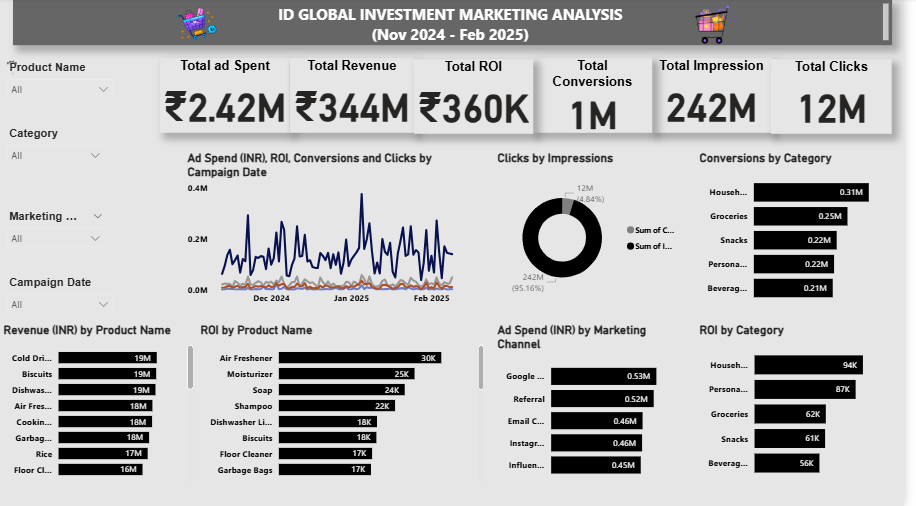

What the dashboard file says about the page in this screenshot:
{"tool":"powerbi","page":{"name":"Page 1","canvas":[1280,720],"ordinal":0},"visuals":[{"type":"card","title":"Total ad Spent","fields":{"Values":["Sum(marketing.Ad Spend (INR))"]},"box":[226.8,85,184.3,106.3],"z":0},{"type":"barChart","title":" Ad Spend (INR) by Marketing Channel","fields":{"Category":["marketing.Marketing Channel"],"Y":["Sum(marketing.Ad Spend (INR))"]},"box":[700.5,460.3,272.1,231.8],"z":1000},{"type":"card","title":"Total Impression","fields":{"Values":["Sum(marketing.Impressions)"]},"box":[924.1,85,168.7,106.3],"z":2000},{"type":"donutChart","title":"Clicks by Impressions","fields":{"Y":["Sum(marketing.Clicks)","Sum(marketing.Impressions)"]},"box":[700.2,216.9,272.1,226.8],"z":3000},{"type":"card","title":"Total Clicks","fields":{"Values":["Sum(marketing.Clicks)"]},"box":[1092.8,86.5,171.5,106.3],"z":4000},{"type":"barChart","title":" Conversions by Category","fields":{"Category":["marketing.Category"],"Y":["Sum(marketing.Conversions)"]},"box":[986.5,216.9,277.8,226.8],"z":5000},{"type":"card","title":"Total Conversions","fields":{"Values":["Sum(marketing.Conversions)"]},"box":[755.4,85,168.7,106.3],"z":6000},{"type":"clusteredBarChart","title":" Revenue (INR) by Product Name","fields":{"Category":["marketing.Product Name"],"Y":["Sum(marketing.Revenue (INR))"]},"box":[0,460.3,278.8,231.8],"z":7000},{"type":"card","title":"Total Revenue","fields":{"Values":["Sum(marketing.Revenue (INR))"]},"box":[411,85,175.7,106.3],"z":8000},{"type":"barChart","title":" ROI by Product Name","fields":{"Category":["marketing.Product Name"],"Y":["Sum(marketing.ROI)"]},"box":[278.8,460.3,411.5,231.8],"z":9000},{"type":"card","title":"Total ROI","fields":{"Values":["Sum(marketing.ROI)"]},"box":[586.8,86.5,168.7,106.3],"z":10000},{"type":"barChart","title":" ROI by Category","fields":{"Category":["marketing.Category"],"Y":["Sum(marketing.ROI)"]},"box":[986,460.3,278.8,231.8],"z":11000},{"type":"slicer","fields":{"Values":["marketing.Product Name"]},"box":[0,85.7,169.7,53.8],"z":12000},{"type":"slicer","fields":{"Values":["marketing.Category"]},"box":[0,178.1,157.9,53.8],"z":13000},{"type":"slicer","fields":{"Values":["marketing.Marketing Channel"]},"box":[0,295.6,157.9,63.8],"z":14000},{"type":"lineChart","title":" Ad Spend (INR), ROI, Conversions and Clicks by Campaign Date","fields":{"Y":["Sum(marketing.Ad Spend (INR))","Sum(marketing.ROI)","Sum(marketing.Conversions)","Sum(marketing.Clicks)"],"Category":["marketing.Campaign Date"]},"box":[260.8,216.9,411,226.8],"z":15000},{"type":"slicer","fields":{"Values":["marketing.Campaign Date"]},"box":[0,389.7,169.7,53.8],"z":16000},{"type":"shape","box":[18.5,3.4,1246.4,63.8],"z":17000},{"type":"textbox","box":[18.5,3.4,1246.4,63.8],"z":18000},{"type":"image","box":[243.8,2.8,69.4,66.6],"z":19000},{"type":"image","box":[969.4,5.7,79.4,63.8],"z":20000}]}

Visuals, with their boxes in screenshot pixels (x1, y1, x2, y2), scaled from the page's 1280x720 canvas onto the 916x506 screenshot:
"Total ad Spent" card: BBox(162, 60, 294, 134)
" Ad Spend (INR) by Marketing Channel" barChart: BBox(501, 323, 696, 486)
"Total Impression" card: BBox(661, 60, 782, 134)
"Clicks by Impressions" donutChart: BBox(501, 152, 696, 312)
"Total Clicks" card: BBox(782, 61, 905, 135)
" Conversions by Category" barChart: BBox(706, 152, 905, 312)
"Total Conversions" card: BBox(541, 60, 661, 134)
" Revenue (INR) by Product Name" clusteredBarChart: BBox(0, 323, 200, 486)
"Total Revenue" card: BBox(294, 60, 420, 134)
" ROI by Product Name" barChart: BBox(200, 323, 494, 486)
"Total ROI" card: BBox(420, 61, 541, 135)
" ROI by Category" barChart: BBox(706, 323, 905, 486)
slicer - marketing.Product Name: BBox(0, 60, 121, 98)
slicer - marketing.Category: BBox(0, 125, 113, 163)
slicer - marketing.Marketing Channel: BBox(0, 208, 113, 253)
" Ad Spend (INR), ROI, Conversions and Clicks by Campaign Date" lineChart: BBox(187, 152, 481, 312)
slicer - marketing.Campaign Date: BBox(0, 274, 121, 312)
shape: BBox(13, 2, 905, 47)
textbox: BBox(13, 2, 905, 47)
image: BBox(174, 2, 224, 49)
image: BBox(694, 4, 751, 49)
